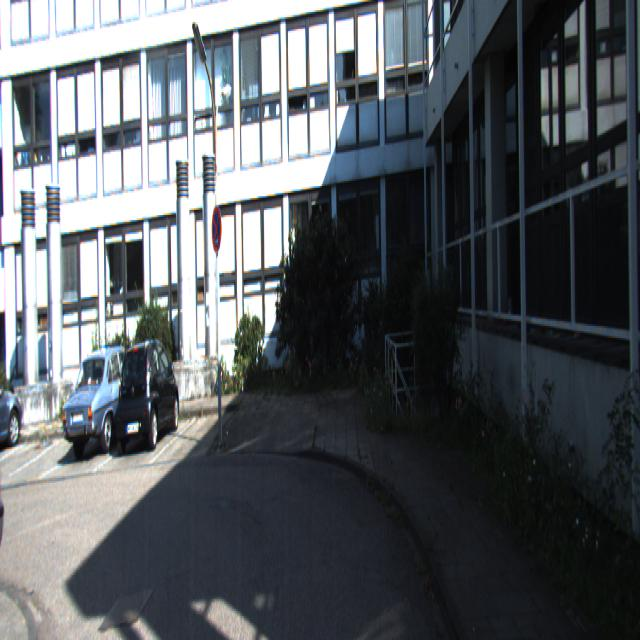Car: (62, 339, 148, 458), (114, 338, 180, 452), (0, 355, 26, 454)
